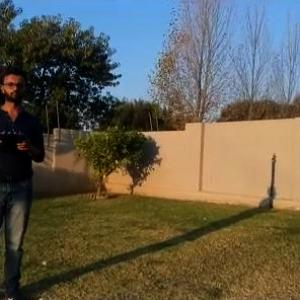follow: (0, 57, 48, 299)
